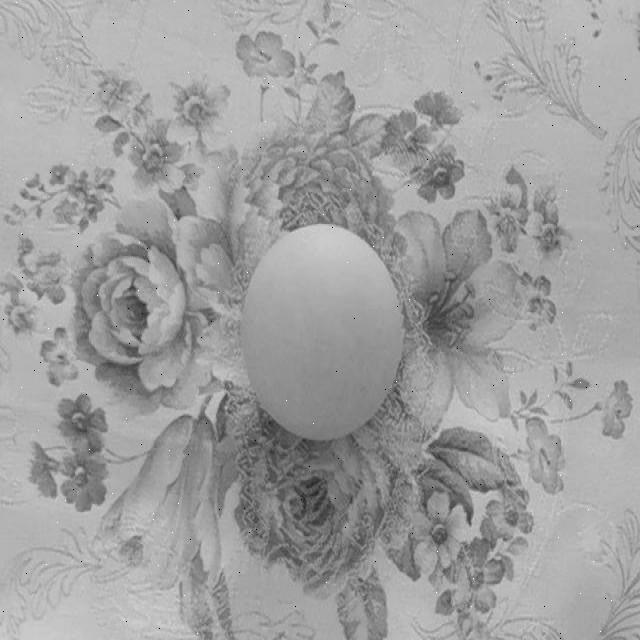ping-pong-ball: (245, 228, 400, 440)
